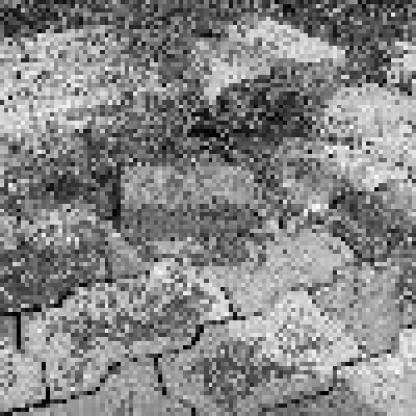brick: (0, 0, 412, 412)
